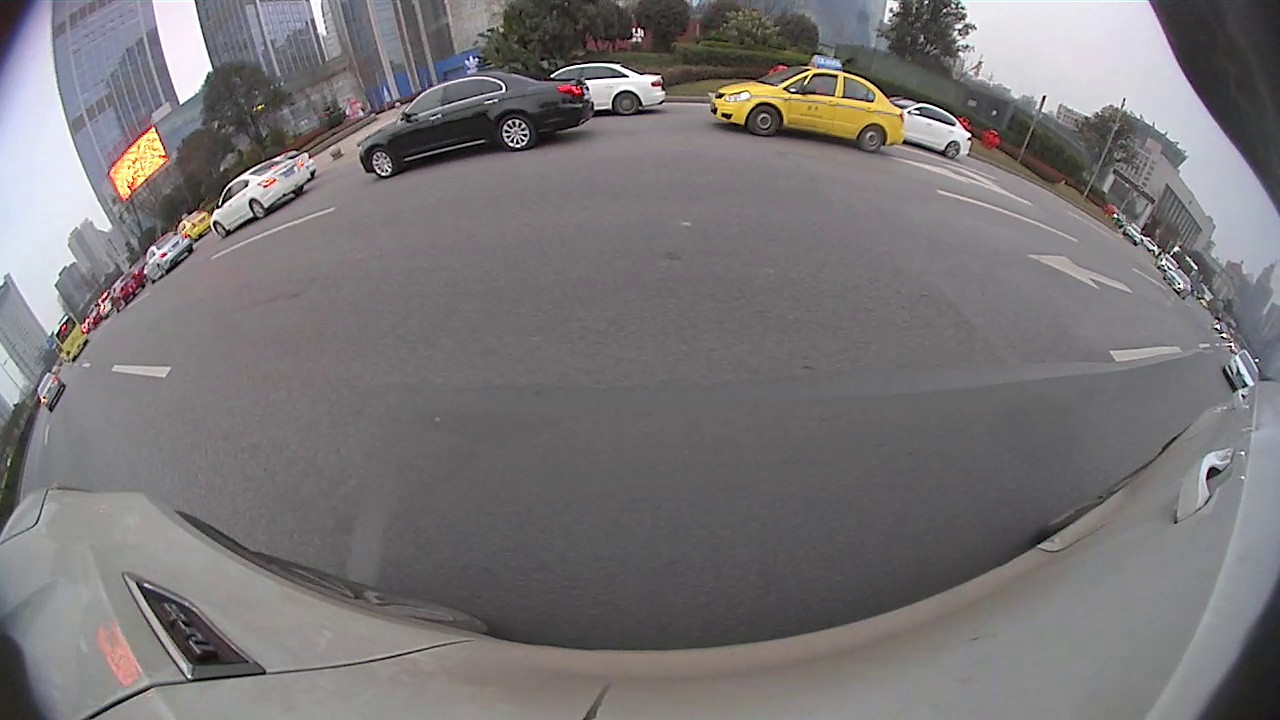bus: (51, 310, 90, 360)
car: (359, 68, 593, 184), (710, 54, 908, 154), (211, 157, 314, 242), (542, 61, 666, 122), (887, 97, 975, 163), (140, 230, 196, 283), (1220, 349, 1259, 394), (176, 207, 213, 246), (33, 371, 65, 408), (278, 149, 317, 171)
front: (746, 103, 783, 139), (369, 147, 397, 180), (212, 221, 231, 238)
rear: (499, 114, 538, 151), (858, 123, 886, 155), (612, 91, 642, 118), (249, 198, 268, 219), (944, 139, 961, 161), (293, 185, 305, 197)
